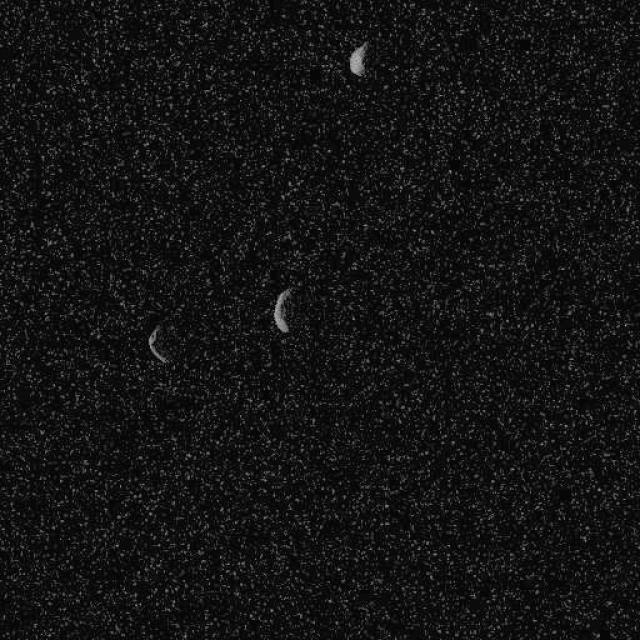D2: (272, 286, 294, 334), (146, 321, 170, 364), (348, 40, 368, 76)
